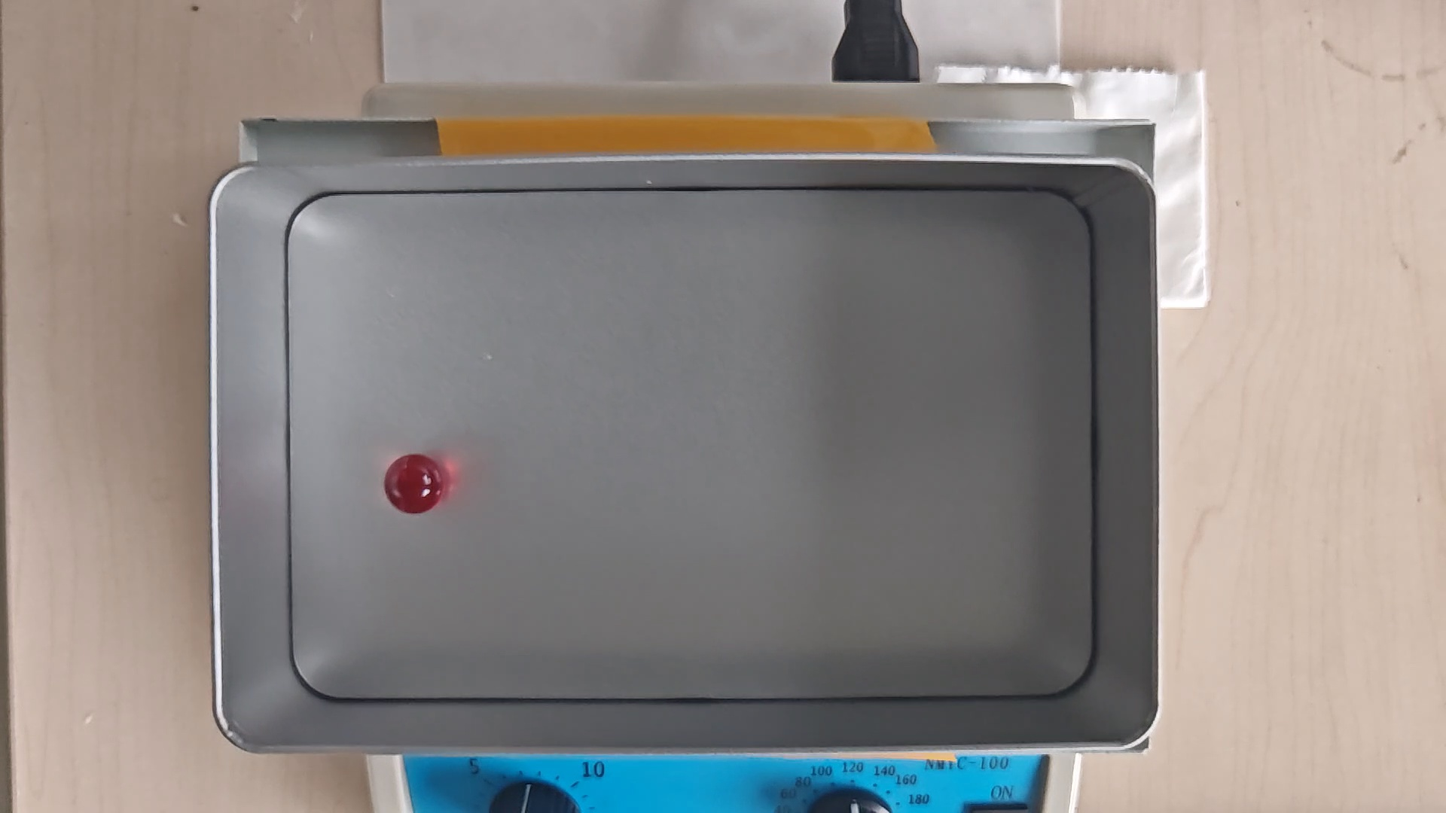ball: (383, 455, 444, 515)
container: (285, 193, 1096, 700)
